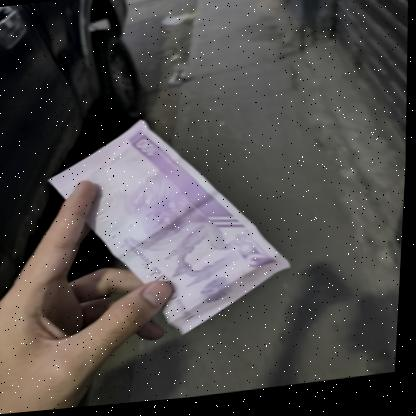one_hundred-back-vef: (39, 105, 302, 355)
